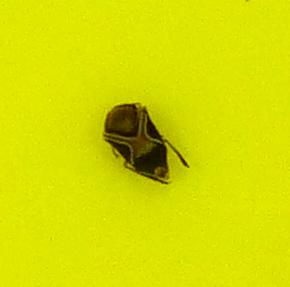Hemiptera: (100, 100, 190, 187)
